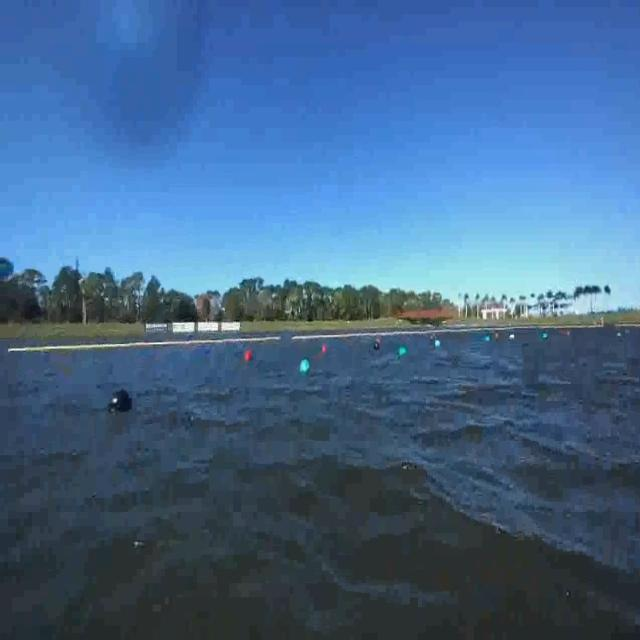black-buoy: (107, 387, 131, 412)
green-buoy: (300, 358, 312, 373)
red-buoy: (243, 350, 250, 362)
yellow-buoy: (169, 410, 178, 424)
